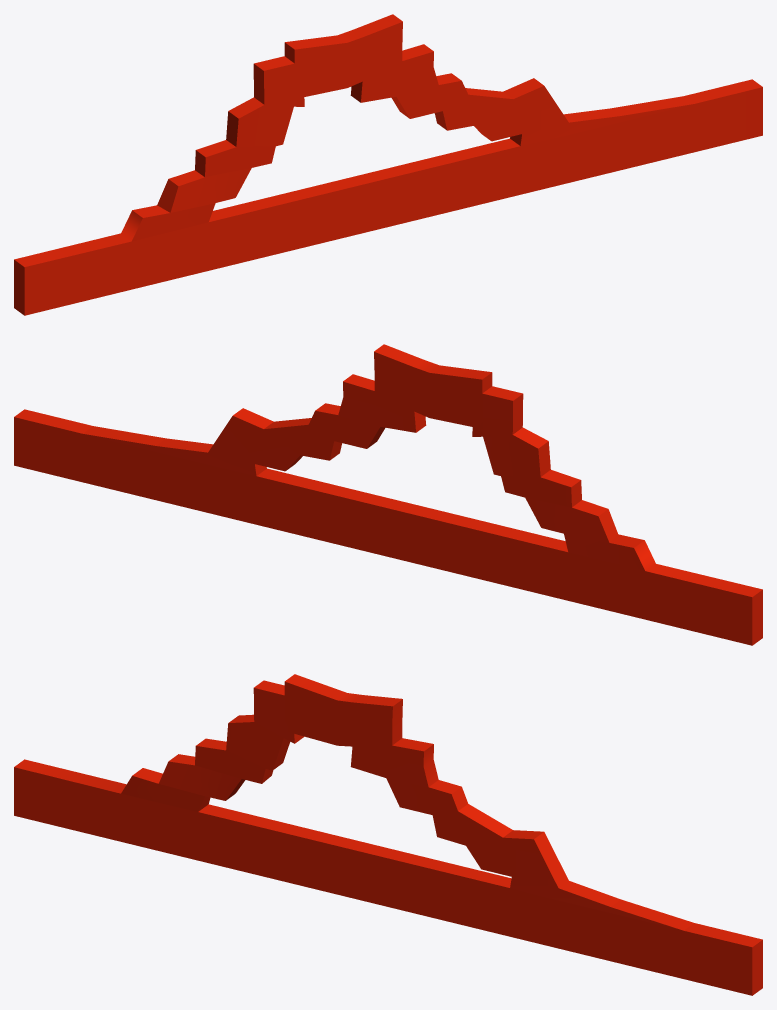
Rendered from Redone Land Module 1.fbx.
3 renders of one model, top to bottom at view 1: azimuth 30°, elevation 25°; view 2: azimuth 150°, elevation 25°; view 3: azimuth 330°, elevation 25°, orthographic.
Visible parts, largest first — view 1: Land_Module_1; view 2: Land_Module_1; view 3: Land_Module_1.
Boxes of the visible parts, x1,y1,x2,y2 form: Land_Module_1: (14,14,762,315); Land_Module_1: (14,344,762,645); Land_Module_1: (14,674,762,995).
Bounding box in the file's own units: 160 × 41.73 × 4.22.
